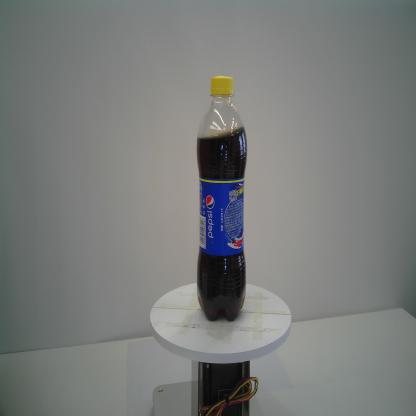Drink: (195, 72, 249, 320)
